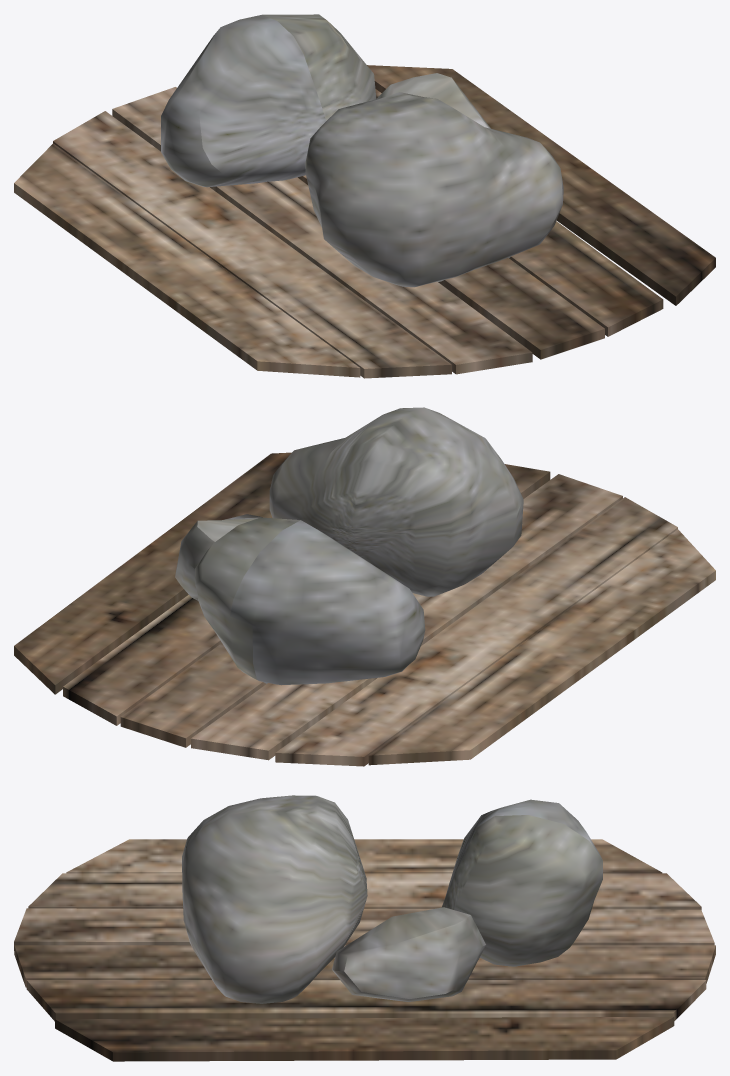
The model's file is PozoTapa.fbx.
3 renders of one model, top to bottom at view 1: azimuth 30°, elevation 25°; view 2: azimuth 150°, elevation 25°; view 3: azimuth 270°, elevation 25°, orthographic. The views are drawn at different scales.
Parts seen in each view (by area): view 1: pCube10; view 2: pCube10; view 3: pCube10.
Boxes of the visible parts, bbox=[...] form: pCube10: bbox=[14, 14, 715, 378]; pCube10: bbox=[14, 407, 715, 766]; pCube10: bbox=[14, 795, 715, 1061].
Size of the model in its own units: 3.11 by 1.06 by 4.33.
Materials: 1 (1 with a texture image).
